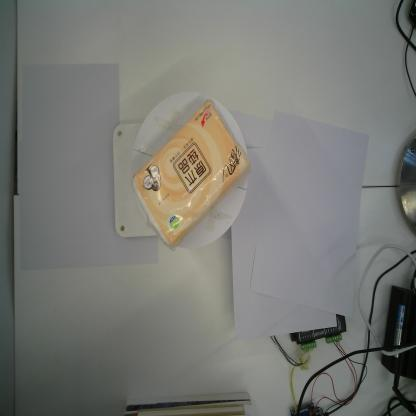Tissue: (132, 99, 251, 249)
